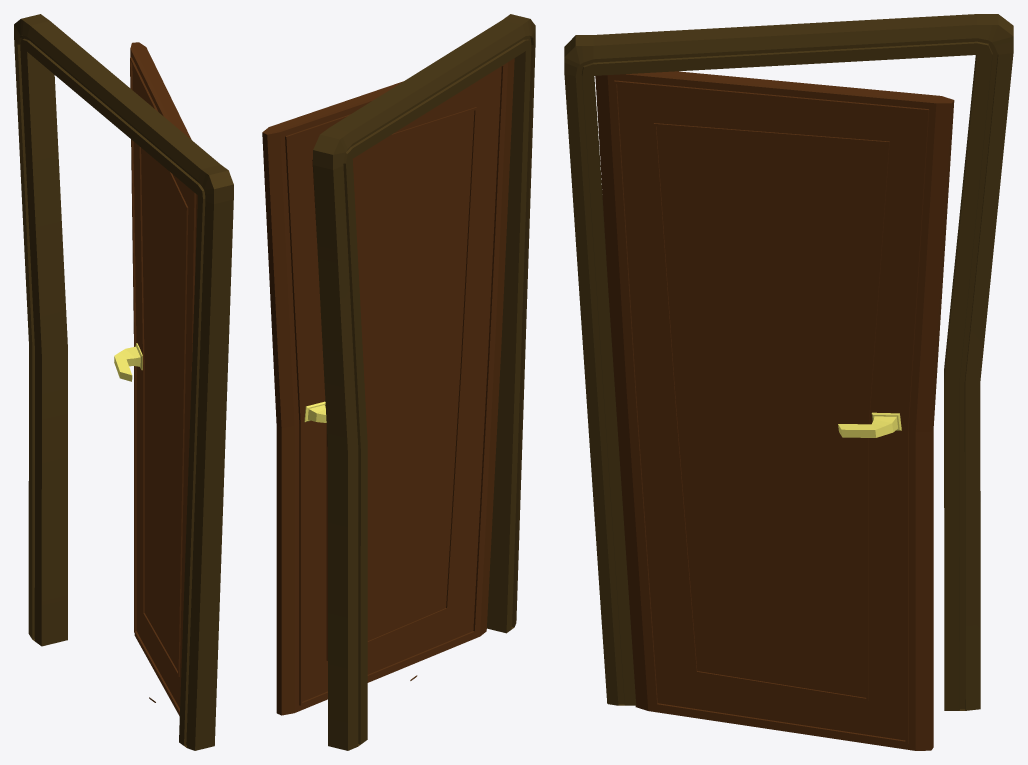
File: Sm_Door.fbx
The picture shows the model from 3 angles, left to right: view 1: azimuth 30°, elevation 25°; view 2: azimuth 150°, elevation 25°; view 3: azimuth 270°, elevation 25°; orthographic projection. The views are drawn at different scales.
Parts seen in each view (by area): view 1: Frame1; view 2: Frame1; view 3: Frame1.
Boxes of the visible parts, x1,y1,x2,y2 form: Frame1: (14,14,233,750); Frame1: (262,14,535,750); Frame1: (564,14,1013,750).
Bounding box in the file's own units: 31.75 × 167 × 98.34.
